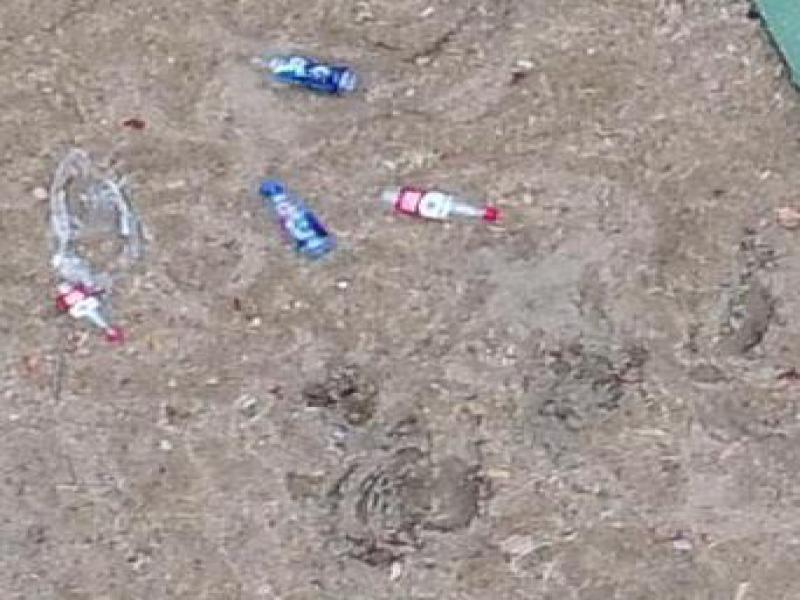bottle: (247, 173, 346, 268), (41, 270, 137, 354), (242, 42, 366, 103), (374, 179, 504, 233)
